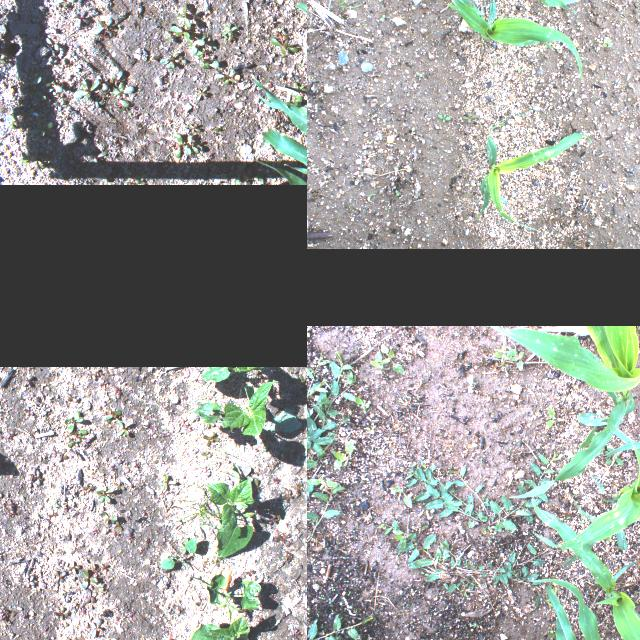crop: (489, 325, 640, 498), (532, 406, 640, 564), (531, 498, 640, 640), (472, 132, 586, 230), (446, 0, 584, 78), (243, 0, 307, 166), (251, 74, 307, 184), (202, 461, 256, 557), (531, 578, 611, 640), (194, 380, 278, 434), (206, 574, 262, 622), (191, 615, 254, 640), (251, 159, 307, 184), (202, 366, 264, 382), (521, 0, 594, 12)
weed: (378, 518, 556, 608), (404, 450, 560, 534), (307, 349, 357, 531), (307, 480, 344, 544), (170, 484, 220, 530), (307, 614, 374, 640), (492, 102, 536, 130), (160, 538, 198, 568), (380, 342, 406, 373), (330, 439, 356, 469), (199, 498, 223, 528), (72, 80, 100, 102), (22, 148, 50, 168), (112, 82, 134, 106), (78, 564, 100, 588), (388, 486, 412, 508), (269, 37, 299, 54), (194, 48, 218, 68), (494, 337, 510, 367), (506, 347, 526, 369), (176, 2, 192, 28), (160, 52, 186, 68), (307, 476, 339, 489), (175, 133, 191, 157), (190, 32, 207, 54), (32, 118, 52, 136), (170, 26, 192, 42), (66, 410, 82, 432), (333, 0, 364, 11), (94, 19, 112, 37), (215, 69, 235, 85), (95, 487, 115, 503), (370, 350, 384, 372), (392, 528, 406, 550), (292, 94, 307, 114), (176, 537, 192, 555), (242, 464, 258, 482), (354, 396, 370, 414), (607, 447, 623, 465), (90, 618, 104, 638), (157, 474, 177, 488), (116, 419, 132, 436), (6, 114, 24, 128), (221, 22, 239, 36), (72, 12, 90, 26), (100, 510, 118, 524), (104, 408, 122, 422), (203, 432, 221, 446), (190, 576, 214, 586), (52, 569, 68, 583), (84, 588, 98, 604), (546, 406, 556, 428), (188, 135, 200, 153), (436, 111, 450, 125), (66, 560, 80, 574), (55, 606, 69, 620), (280, 488, 294, 502), (46, 80, 62, 92), (96, 74, 108, 90), (276, 533, 292, 545), (237, 604, 253, 616), (600, 36, 614, 49), (111, 71, 122, 87), (46, 38, 59, 51), (196, 86, 208, 100), (57, 447, 69, 461), (265, 513, 279, 525), (290, 366, 300, 382), (604, 448, 614, 464), (7, 498, 16, 514), (70, 428, 88, 436), (36, 468, 44, 486), (280, 550, 292, 562), (207, 36, 217, 50), (28, 466, 38, 480), (57, 0, 75, 7), (207, 413, 216, 427), (66, 392, 78, 402), (114, 519, 124, 531), (182, 422, 194, 432), (54, 102, 68, 110), (464, 114, 478, 122), (82, 483, 96, 491), (252, 478, 260, 492), (68, 437, 78, 448), (114, 480, 125, 490), (200, 449, 212, 458), (190, 124, 200, 134), (87, 369, 97, 379), (112, 385, 122, 395), (294, 482, 304, 492), (367, 424, 377, 434), (548, 584, 558, 594), (64, 415, 76, 423), (294, 82, 304, 90), (368, 190, 378, 198), (76, 432, 84, 442), (82, 436, 90, 446), (246, 569, 256, 577), (548, 630, 556, 640), (300, 373, 307, 384), (51, 449, 60, 457), (195, 400, 207, 406), (302, 84, 307, 97), (416, 70, 424, 78), (102, 562, 110, 570), (128, 610, 136, 618), (273, 476, 281, 484), (0, 53, 6, 63), (379, 13, 386, 21), (0, 608, 8, 615), (100, 379, 108, 386), (396, 188, 402, 196), (516, 66, 522, 74), (53, 499, 59, 507), (214, 558, 220, 566), (604, 537, 612, 543), (421, 572, 432, 576), (263, 444, 269, 451), (49, 512, 59, 516), (98, 582, 102, 592), (258, 178, 264, 184), (59, 637, 71, 640), (310, 558, 316, 564), (473, 622, 479, 628), (212, 128, 220, 132), (234, 180, 240, 184)
